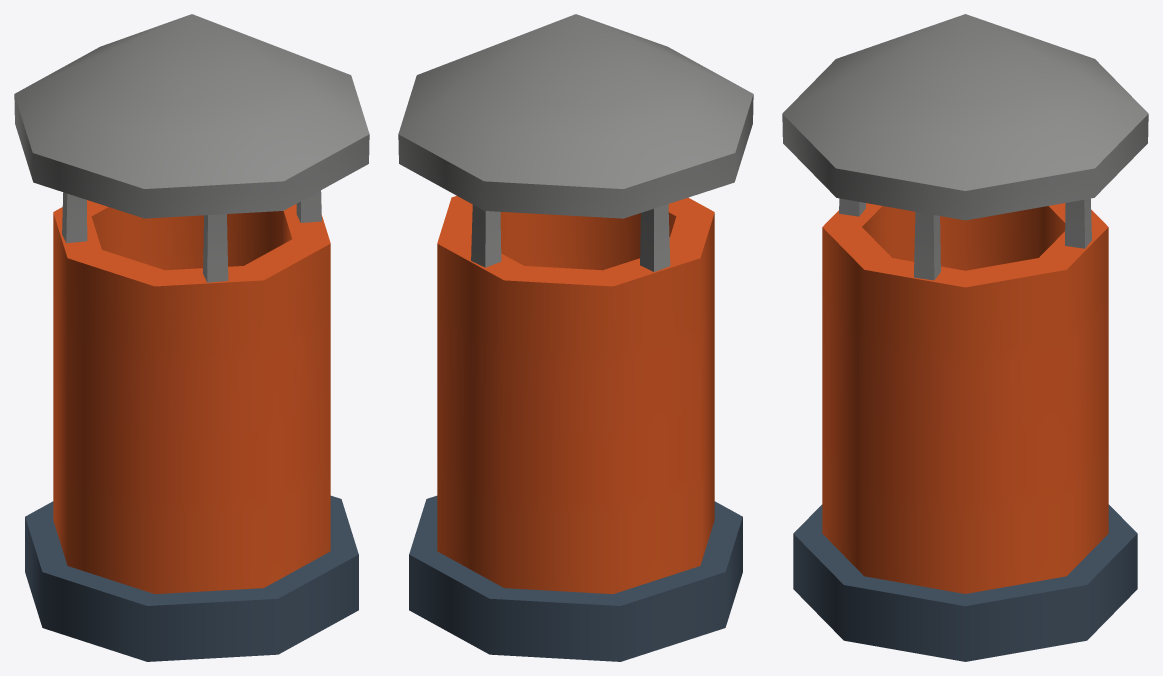
File: Chimney_1_A_3.fbx
3 renders of one model, left to right at view 1: azimuth 30°, elevation 25°; view 2: azimuth 150°, elevation 25°; view 3: azimuth 270°, elevation 25°, orthographic.
Visible parts, largest first — view 1: Chimney_1_A_3; view 2: Chimney_1_A_3; view 3: Chimney_1_A_3.
Boxes of the visible parts, bbox=[...] form: Chimney_1_A_3: bbox=[14, 14, 369, 661]; Chimney_1_A_3: bbox=[398, 14, 753, 661]; Chimney_1_A_3: bbox=[782, 14, 1148, 661].
Bounding box in the file's own units: 65.76 × 114 × 65.76.
